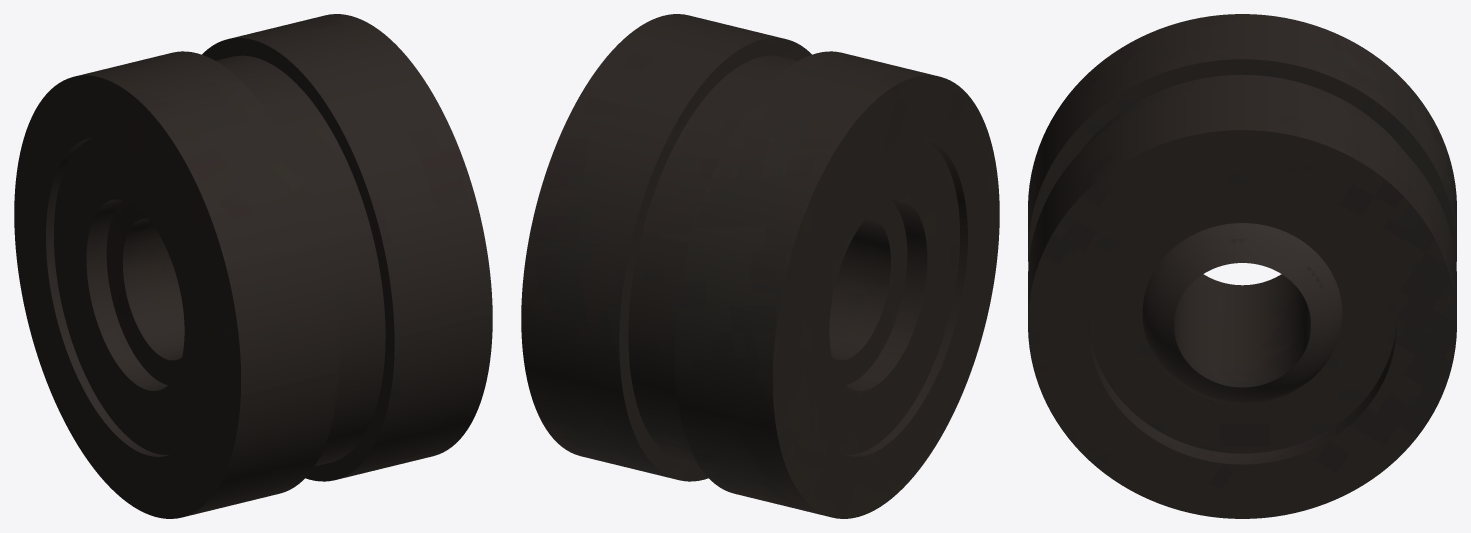
Rendered from wheel_0__rim.glb.
3 renders of one model, left to right at view 1: azimuth 30°, elevation 25°; view 2: azimuth 150°, elevation 25°; view 3: azimuth 270°, elevation 25°, orthographic. The views are drawn at different scales.
Parts seen in each view (by area): view 1: world; view 2: world; view 3: world.
Boxes of the visible parts, left/top/right/bottom form: world: left=14, top=14, right=492, bottom=518; world: left=521, top=14, right=999, bottom=518; world: left=1028, top=14, right=1456, bottom=518.
Bounding box in the file's own units: 0.0322 × 0.05 × 0.05.
1 material, 1 textured.
